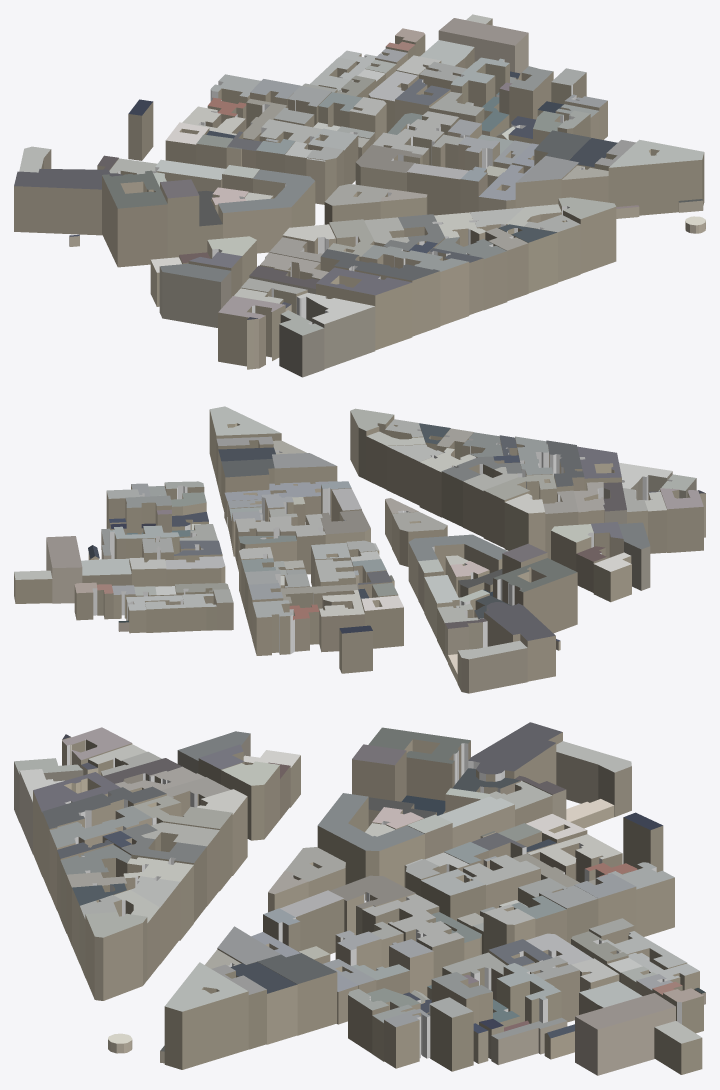
3 renders of one model, top to bottom at view 1: azimuth 30°, elevation 25°; view 2: azimuth 150°, elevation 25°; view 3: azimuth 270°, elevation 25°, orthographic. The views are drawn at different scales.
Parts seen in each view (by area): view 1: tuile; view 2: tuile; view 3: tuile.
Part boxes in pixels (x1,y1,x2,y2): tuile: [14, 14, 705, 377]; tuile: [14, 406, 705, 693]; tuile: [14, 722, 705, 1075].
Size of the model in its own units: 271 by 31.91 by 259.
